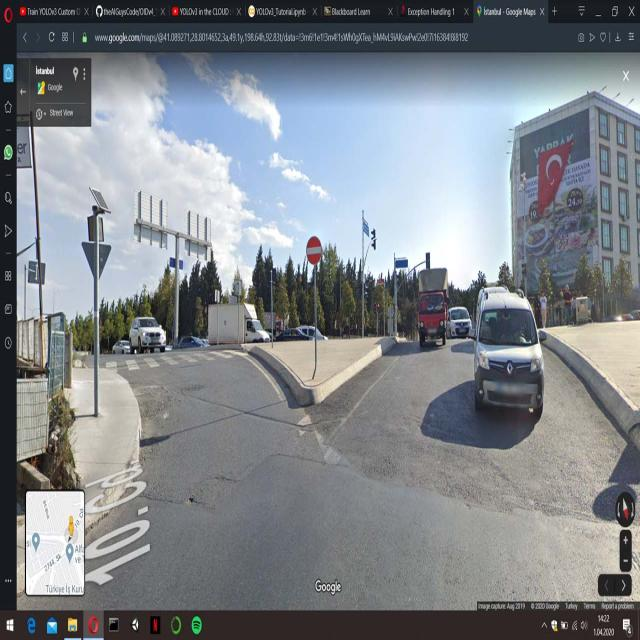girisyok: (305, 234, 323, 266)
